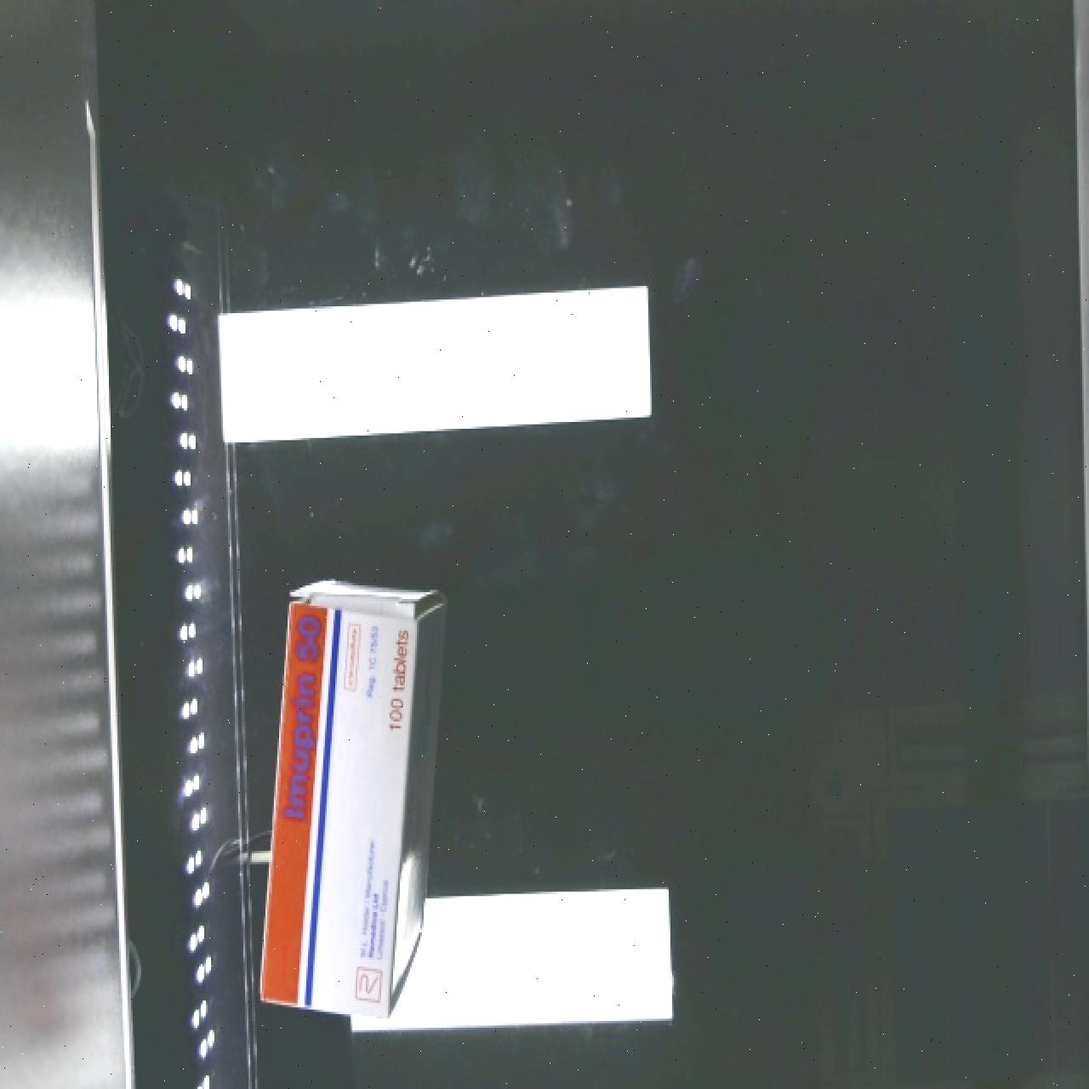medicine_label_obb: (268, 592, 340, 831)
